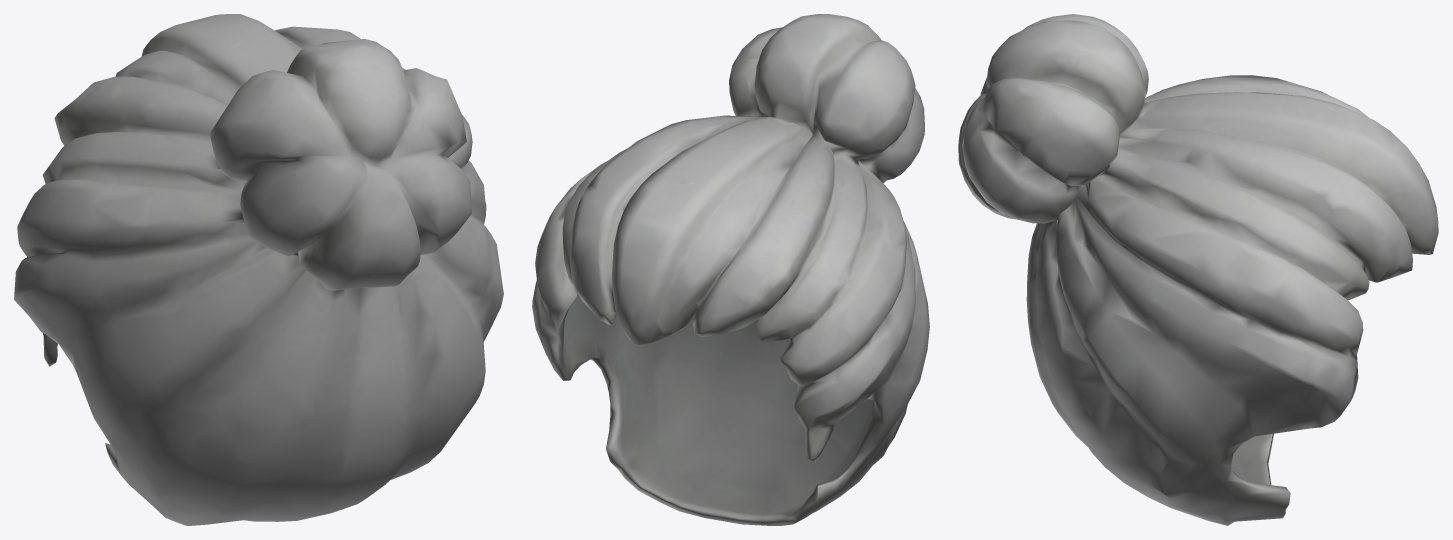
File: hair-bun-top.glb
3 views of the same model, side by side, from view 1: azimuth 30°, elevation 25°; view 2: azimuth 150°, elevation 25°; view 3: azimuth 270°, elevation 25° (orthographic). The views are drawn at different scales.
Parts seen in each view (by area): view 1: hair-bun-top; view 2: hair-bun-top; view 3: hair-bun-top.
Part boxes in pixels (left/top/right/bottom): hair-bun-top: left=14, top=14, right=503, bottom=525; hair-bun-top: left=532, top=14, right=929, bottom=525; hair-bun-top: left=958, top=14, right=1438, bottom=525.
Size of the model in its own units: 0.8377 by 0.9998 by 0.9366.
1 material, 1 textured.
